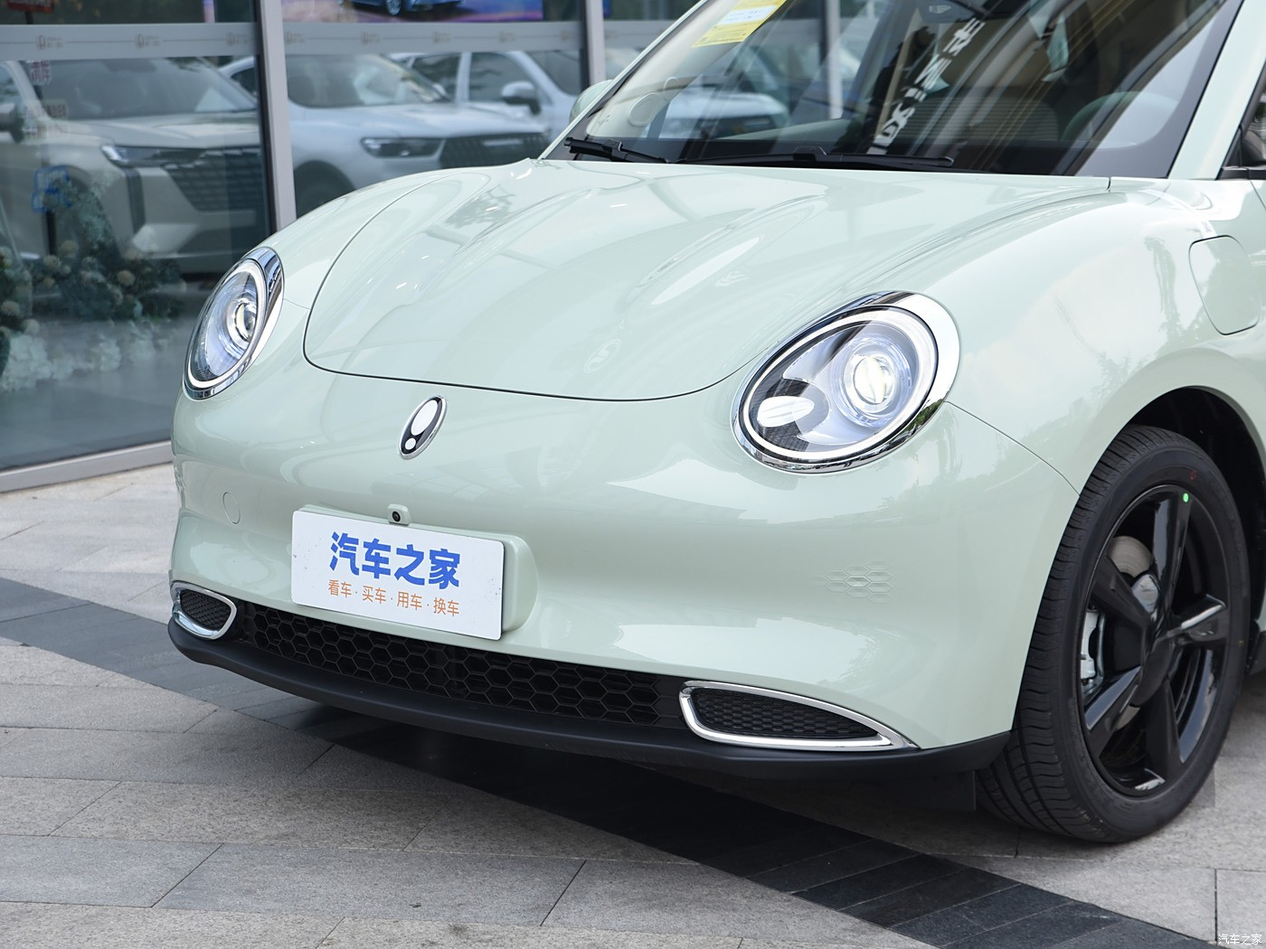ORA: (400, 397, 446, 458)
